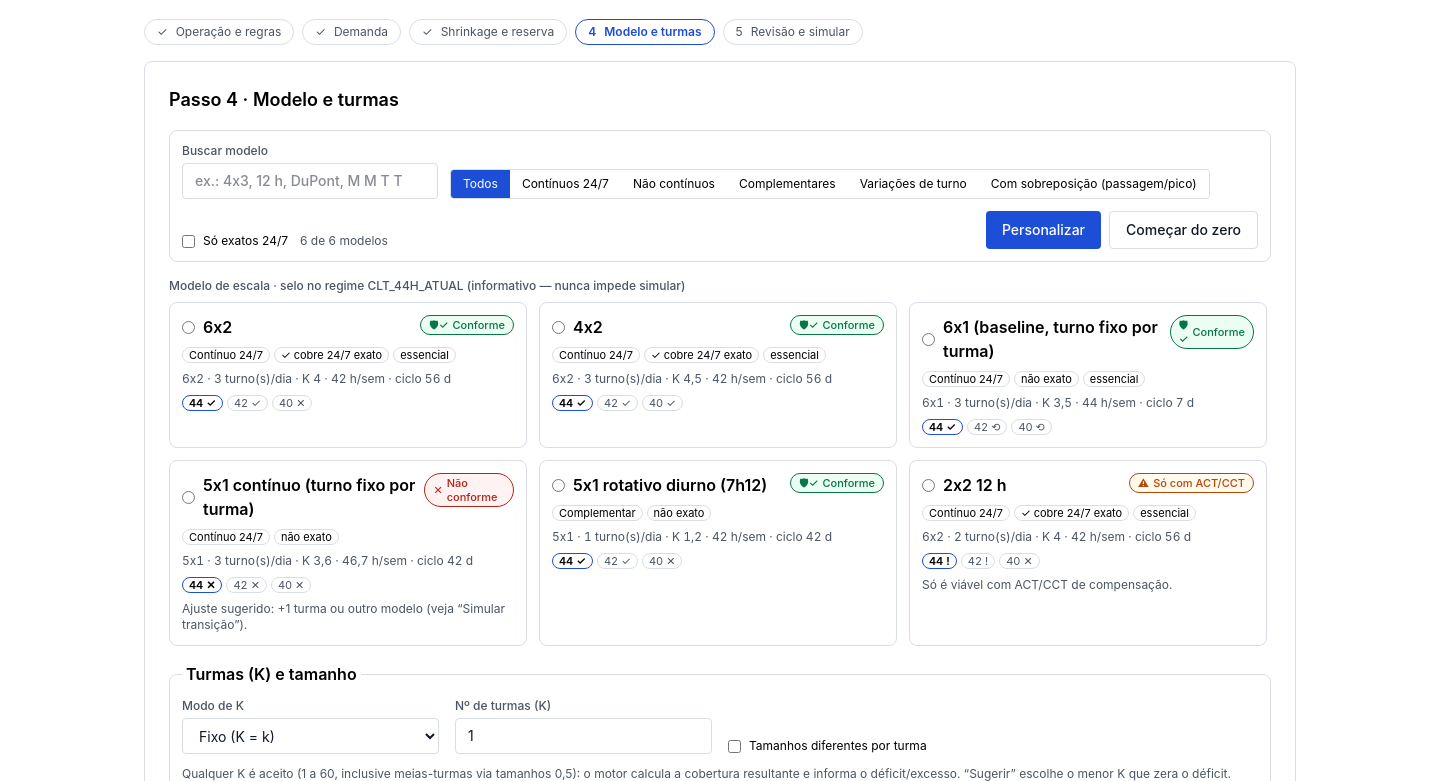
Test: Wizard de 5 passos (A26/A47) › passo 4: K "sugerir" e tamanhos por turma enviam params.pattern derivado
Later steps or results of the test are not shown.
Step 1. Click the label with test id "modelo-4X2" → (718, 375), box 539,302 -> 897,448
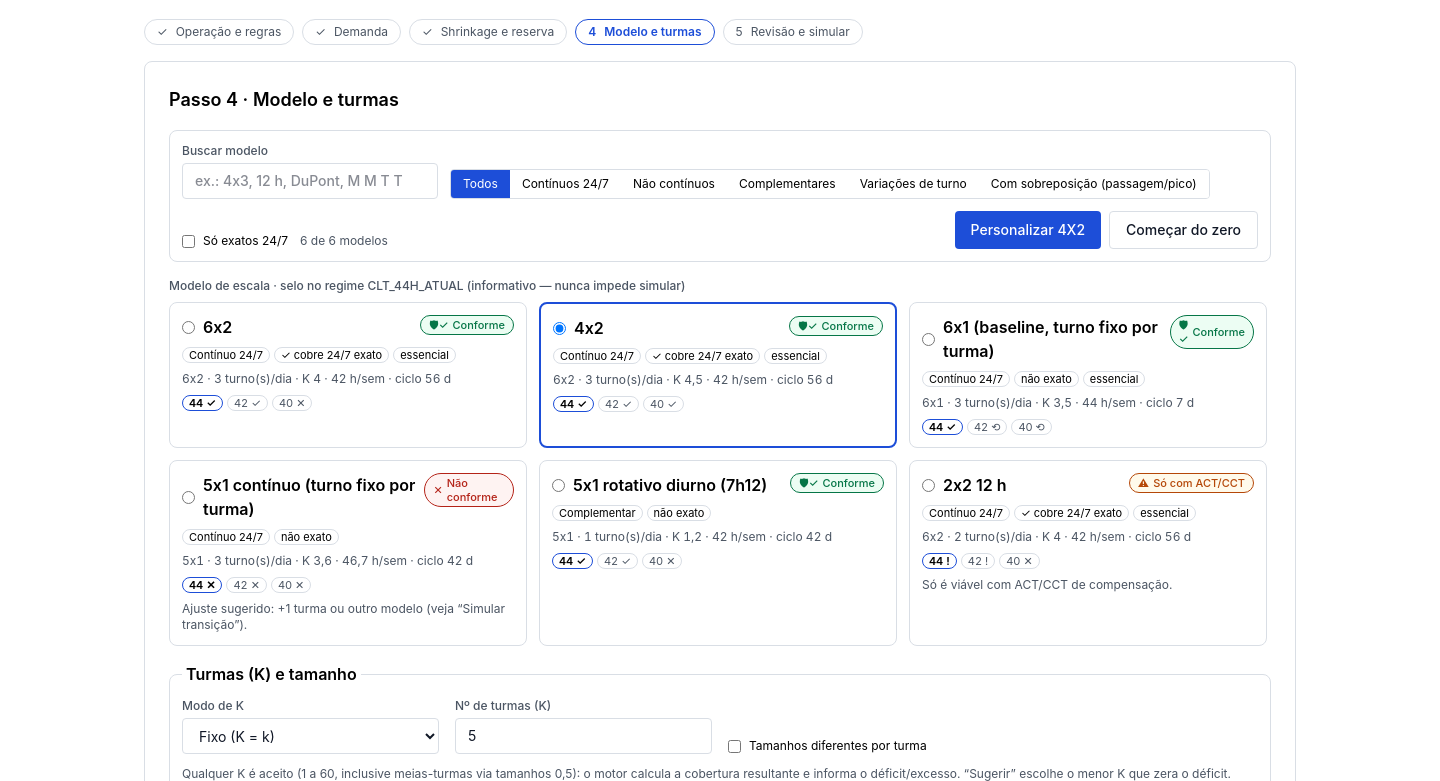
expect the number field labelled "Nº de turmas (K)" holds "5": met, box 455,718 -> 712,754
Step 2. Select "Sugerir (motor escolhe K)" in the dropdown labelled "Modo de K" → (310, 736), box 182,718 -> 439,754
(page scrolled)
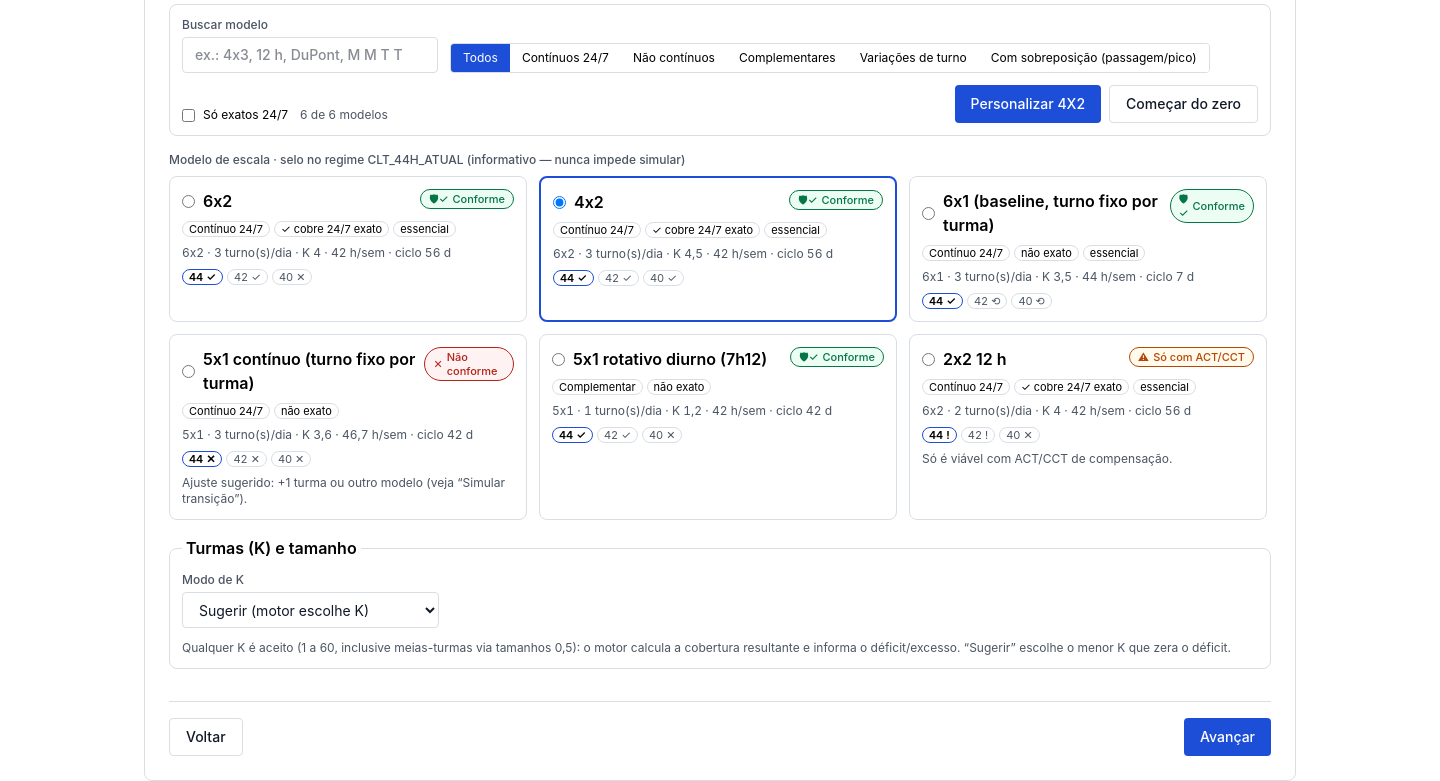
Step 3. Click the button "Avançar" → (1228, 737), box 1184,718 -> 1271,756
(page scrolled)
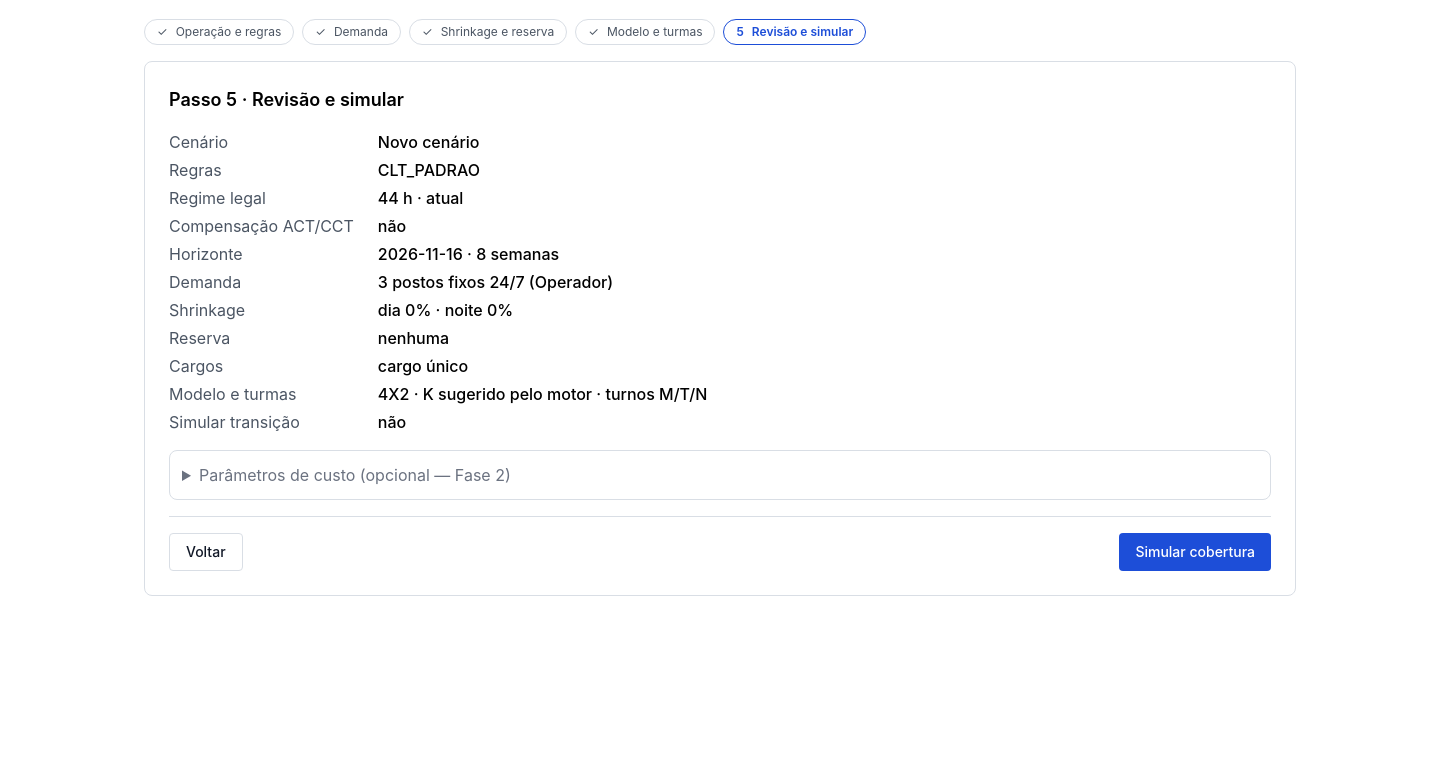
expect the heading "Passo 5 · Revisão e simular" is shown: met, box 169,89 -> 404,110
expect the text "4X2 · K sugerido pelo motor · turnos M/T/N" is shown: met, box 378,384 -> 707,404
